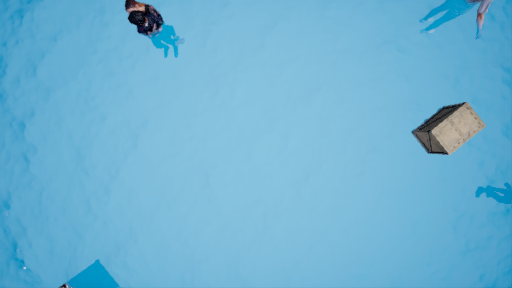person: (124, 4, 198, 69)
